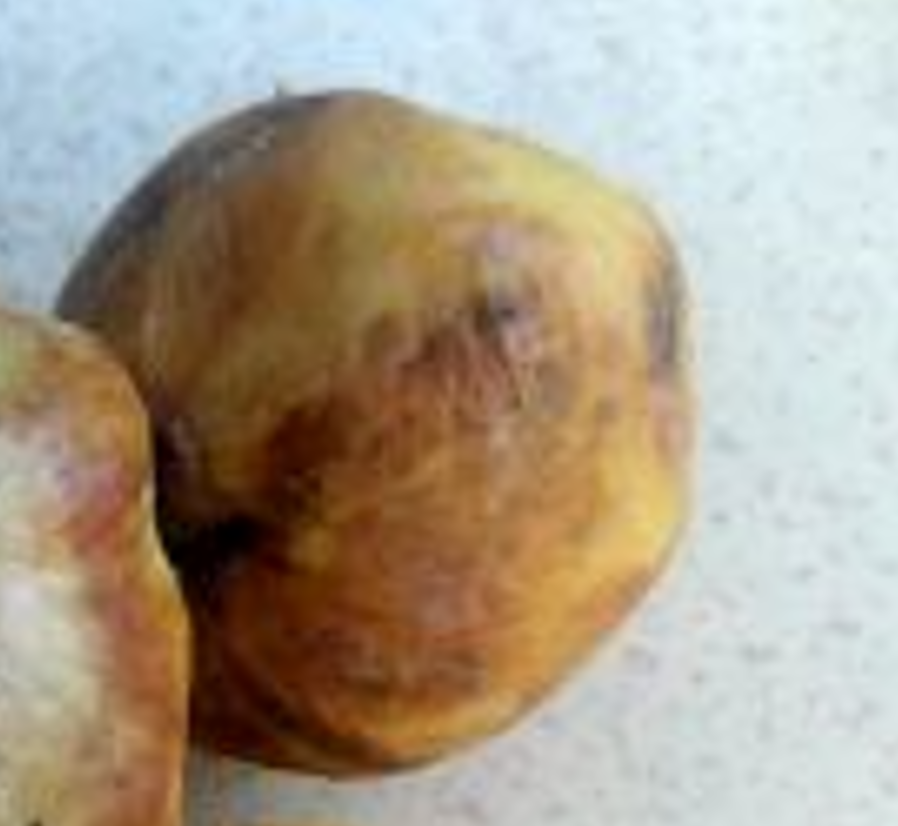guava_C: (50, 88, 700, 780)
